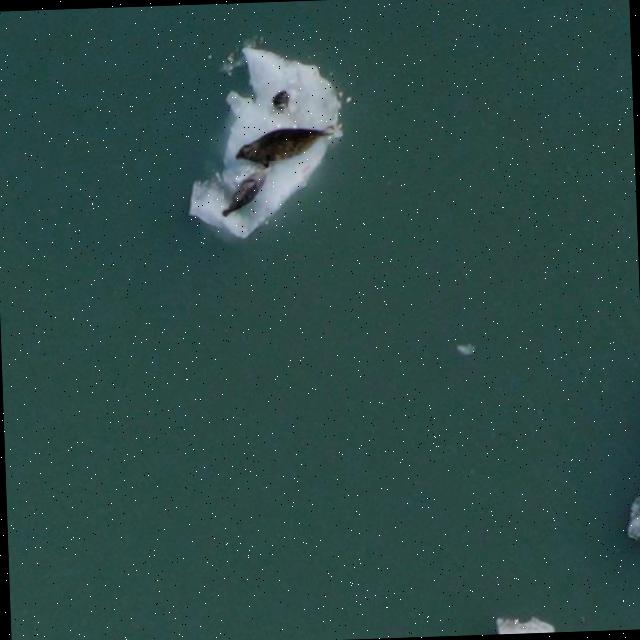seal: (232, 120, 334, 167), (218, 160, 272, 223)
